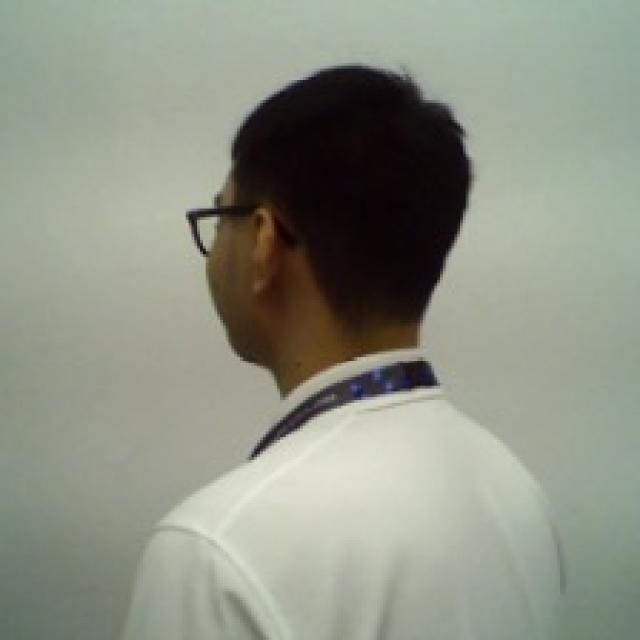no_gloves: (224, 56, 480, 340)
